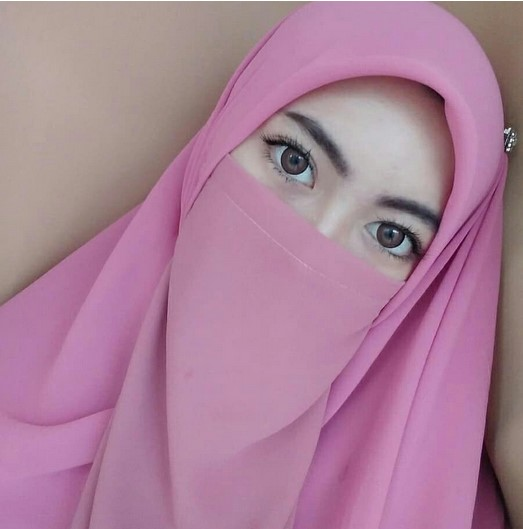face_with_mask: (164, 18, 478, 410)
